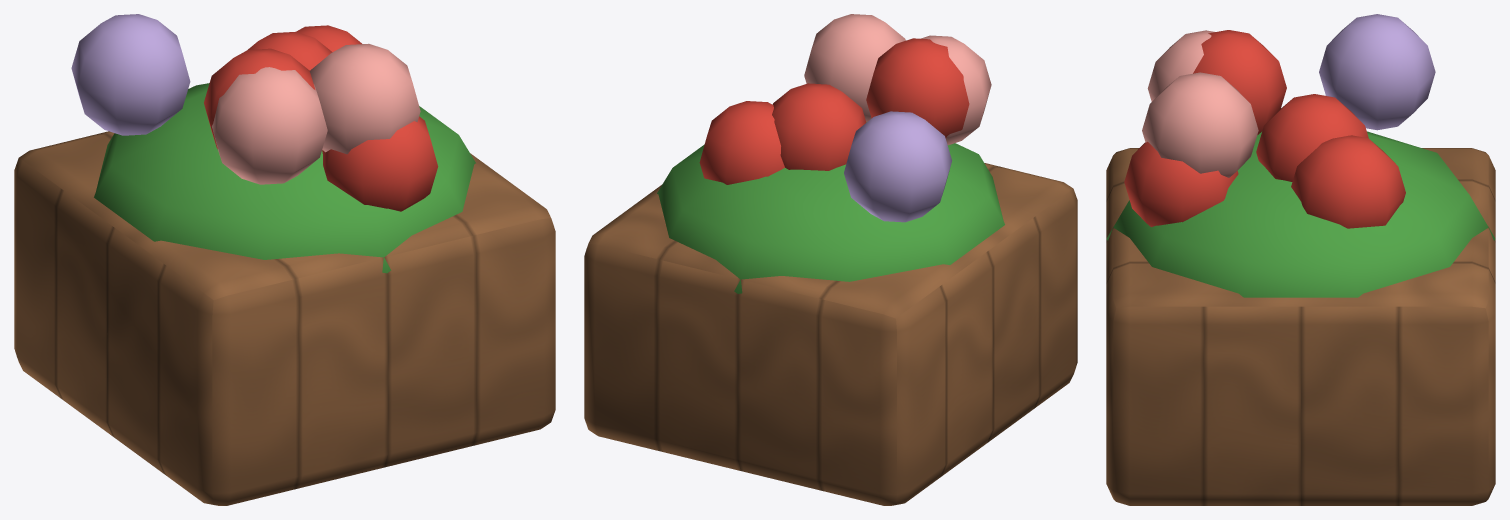
The model's file is flower_pot.gltf.
The picture shows the model from 3 angles, left to right: view 1: azimuth 30°, elevation 25°; view 2: azimuth 150°, elevation 25°; view 3: azimuth 270°, elevation 25°; orthographic projection. The views are drawn at different scales.
Visible parts, largest first — view 1: flower_pot_mesh; view 2: flower_pot_mesh; view 3: flower_pot_mesh.
Boxes of the visible parts, x1,y1,x2,y2 form: flower_pot_mesh: (14,14,555,505); flower_pot_mesh: (584,14,1077,505); flower_pot_mesh: (1106,14,1495,505).
Size of what is drawn, in the model's own units: 1 by 1.05 by 1.
5 materials, 1 textured.
